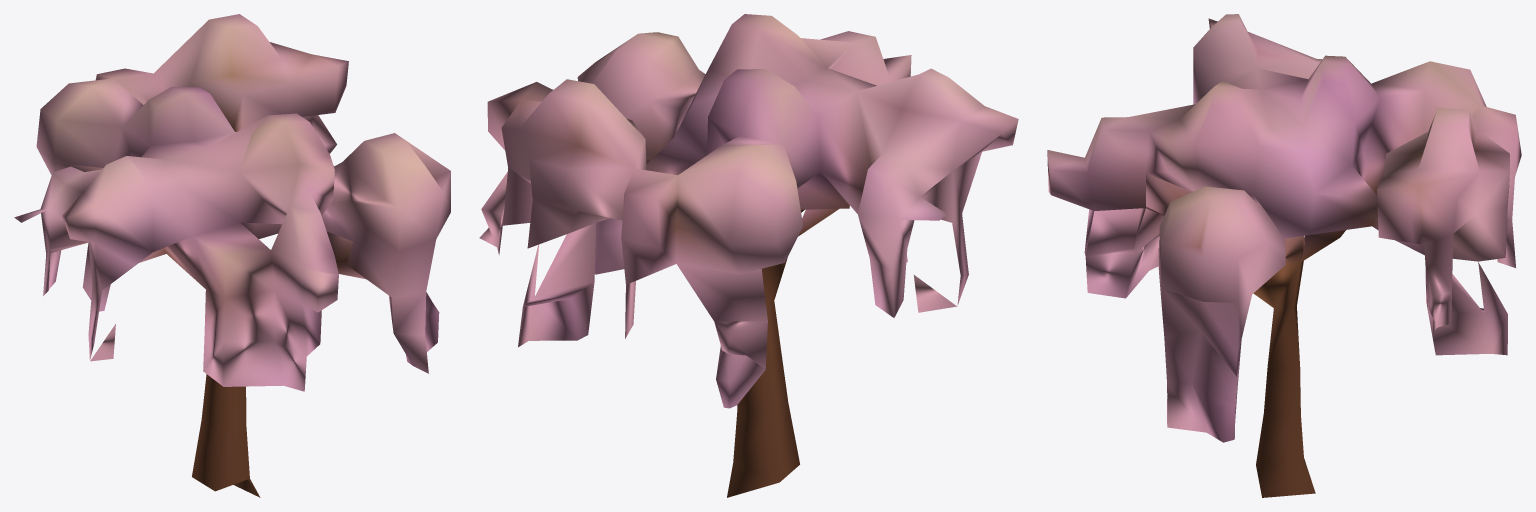
Rendered from weeping-tree-1-lod3.obj.
The picture shows the model from 3 angles, left to right: view 1: azimuth 30°, elevation 25°; view 2: azimuth 150°, elevation 25°; view 3: azimuth 270°, elevation 25°; orthographic projection. The views are drawn at different scales.
Visible parts, largest first — view 1: simplified; view 2: simplified; view 3: simplified.
Part boxes in pixels (<box>): simplified: <box>14,14,450,497</box>; simplified: <box>479,14,1018,497</box>; simplified: <box>1047,14,1521,497</box>.
Size of the model in its own units: 376 by 376 by 388.
